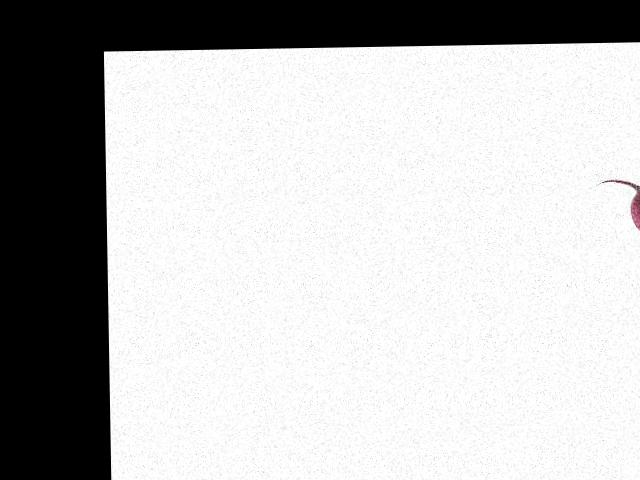beet: (596, 178, 640, 250)
